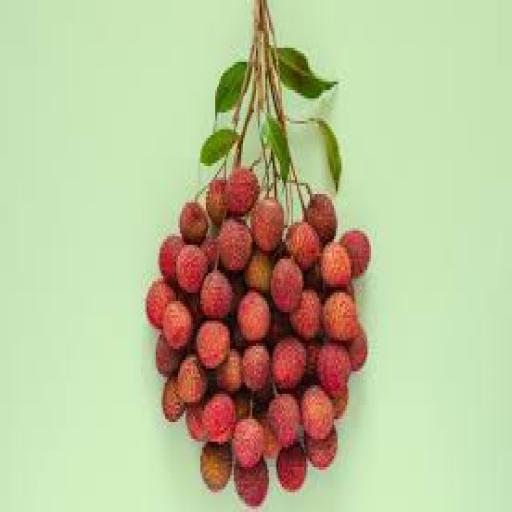lychee: (270, 338, 305, 391), (250, 197, 282, 253), (217, 220, 251, 272), (300, 386, 332, 441), (270, 259, 303, 312), (237, 290, 269, 343), (267, 394, 299, 447), (322, 293, 358, 340), (317, 344, 349, 396), (226, 166, 258, 216), (289, 290, 321, 340), (202, 394, 234, 444), (233, 459, 267, 506), (285, 223, 319, 270), (304, 195, 336, 244), (196, 321, 229, 368), (144, 279, 175, 329), (231, 420, 264, 466), (176, 355, 206, 405), (200, 442, 230, 492), (200, 271, 230, 320), (339, 231, 370, 278), (319, 242, 349, 289), (176, 245, 206, 292), (276, 445, 305, 492), (241, 344, 269, 391), (304, 428, 336, 469), (163, 302, 191, 348), (244, 251, 271, 295), (179, 203, 206, 244), (155, 335, 182, 376), (157, 237, 182, 281), (215, 349, 240, 393), (257, 411, 279, 458), (161, 377, 184, 421), (205, 178, 225, 225), (346, 327, 366, 371), (185, 403, 204, 441), (304, 341, 321, 379), (200, 237, 216, 270), (233, 389, 249, 421), (332, 389, 347, 419)
